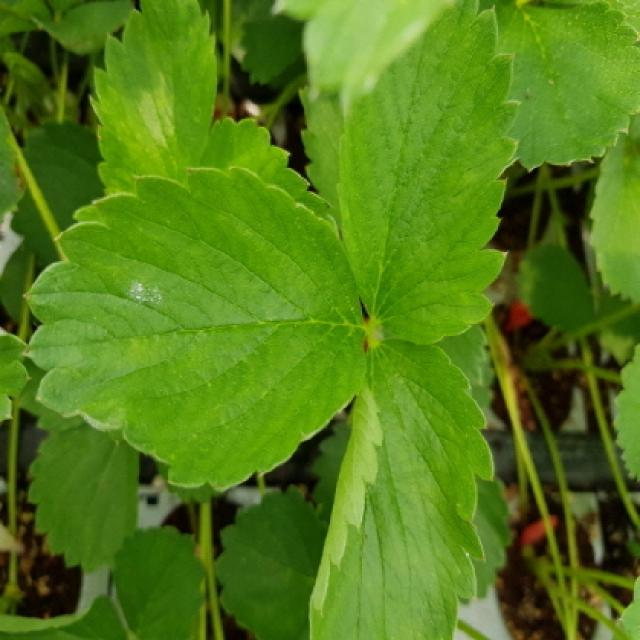Powdery Mildew Leaf: (20, 164, 368, 492)
